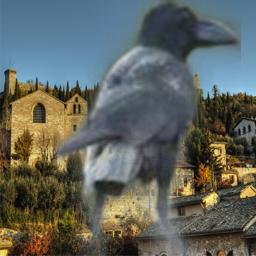Crow: (55, 0, 241, 256)
